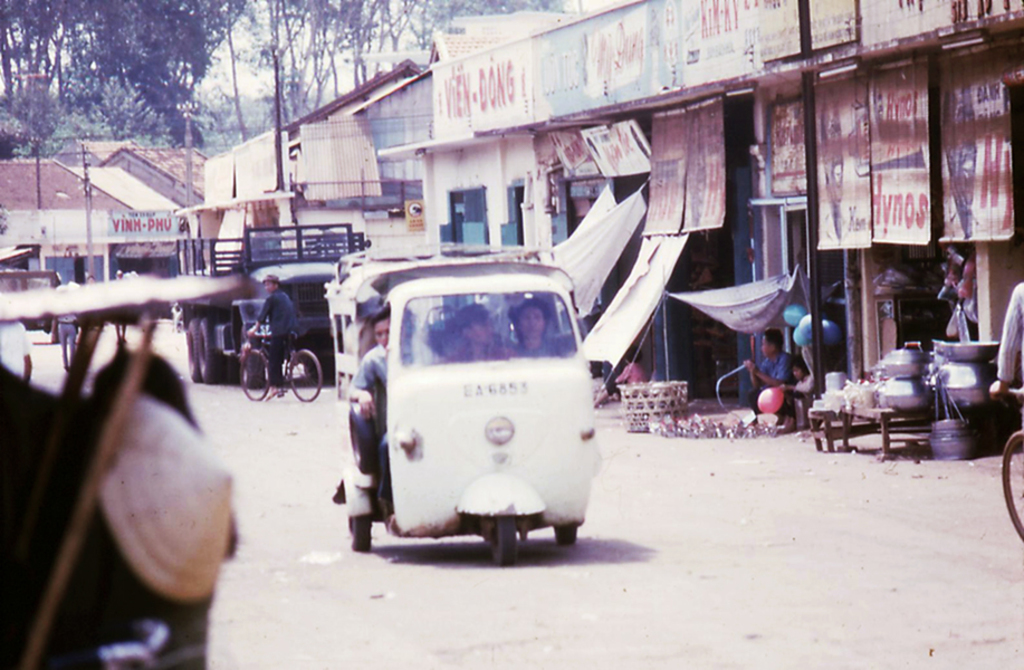cars: (0, 269, 62, 334)
